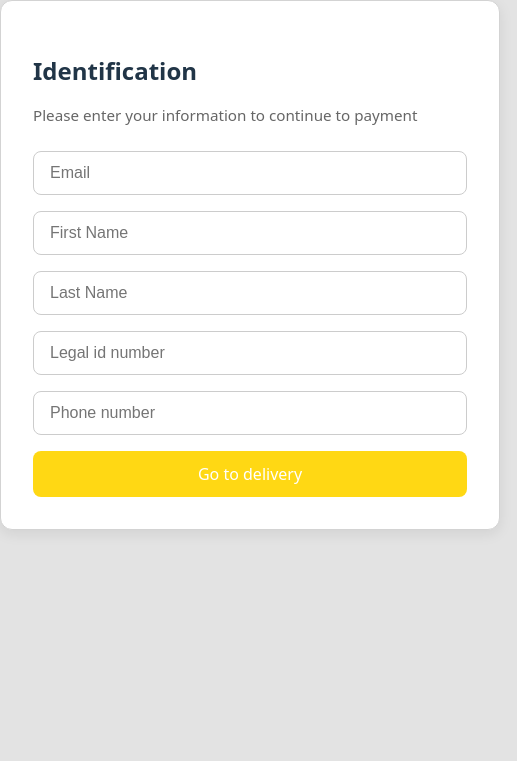
it: CustomerForm › Field Validations › should show error when email is empty
Step 1. Click the button "Go to delivery" → (250, 474), box x1=33 y1=451 x2=467 y2=497
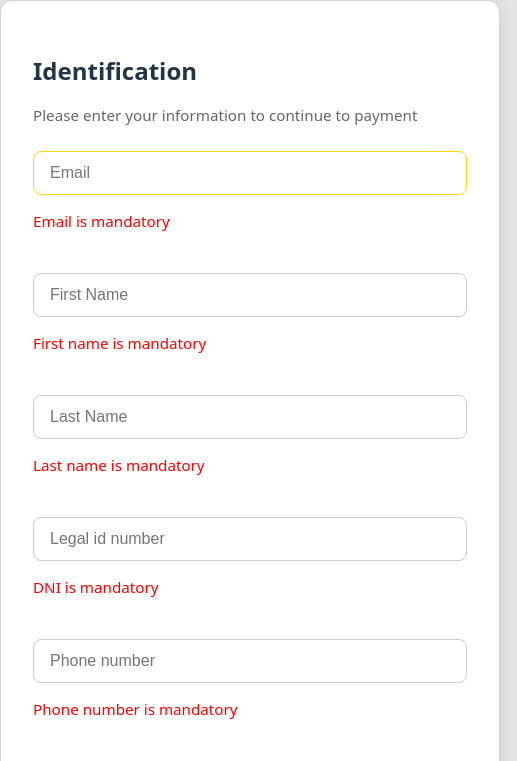
Check: the text "Email is mandatory" is shown, box x1=33 y1=211 x2=170 y2=231
